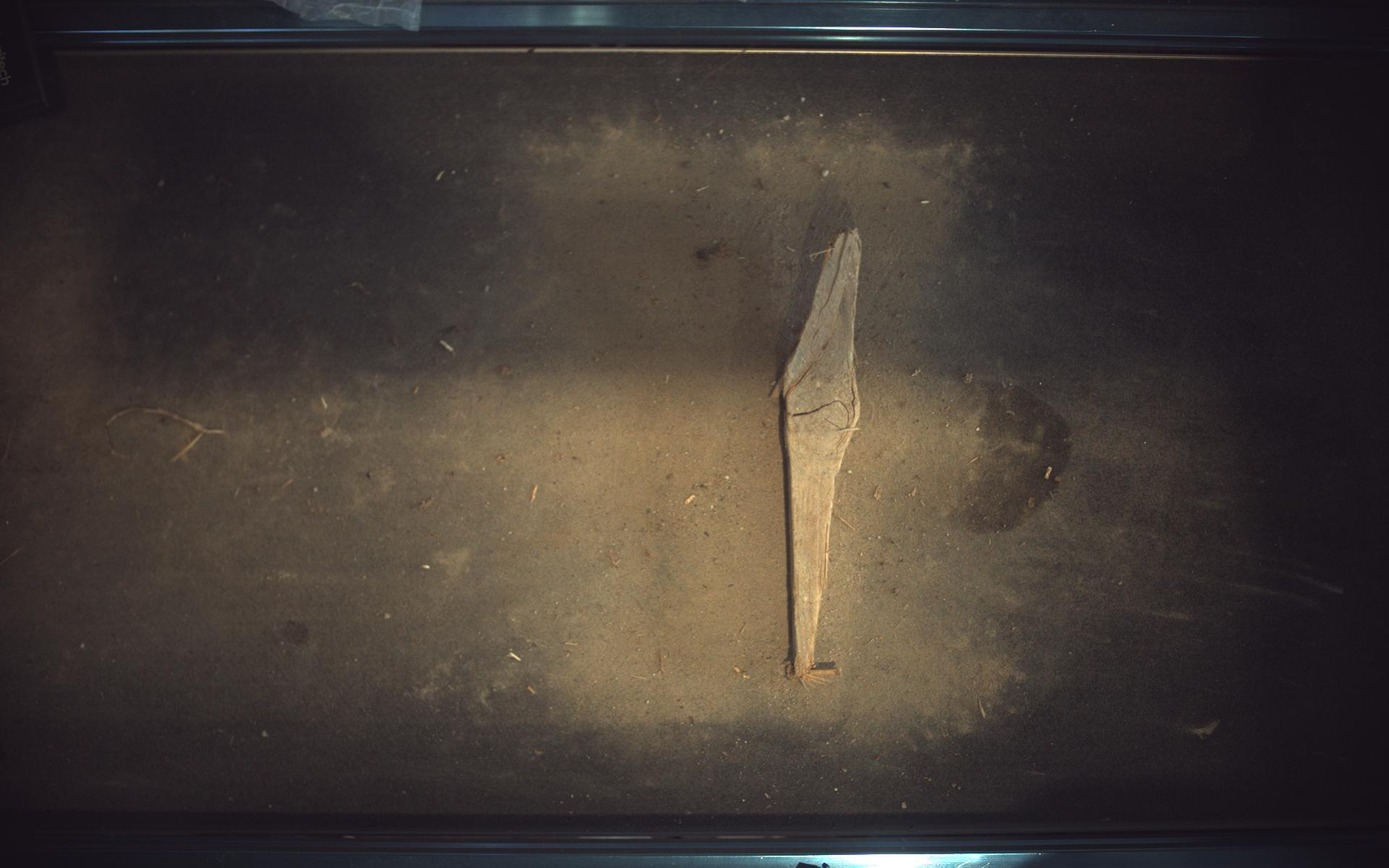wood: (780, 228, 863, 679)
